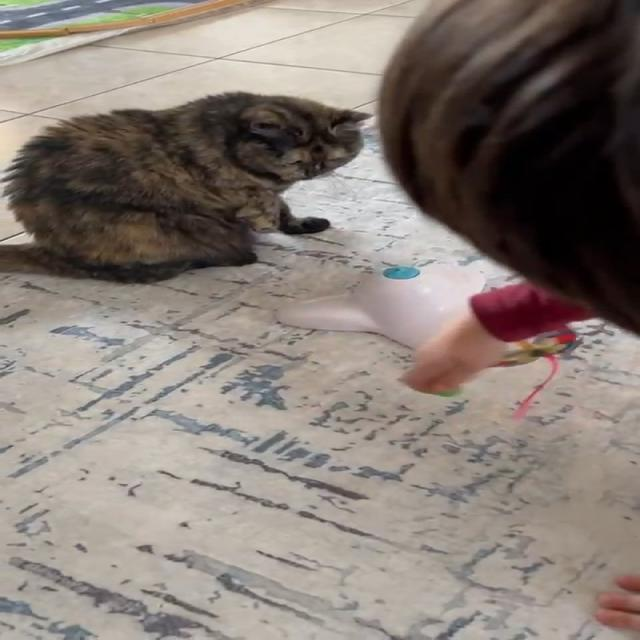authorized: (0, 90, 373, 284)
